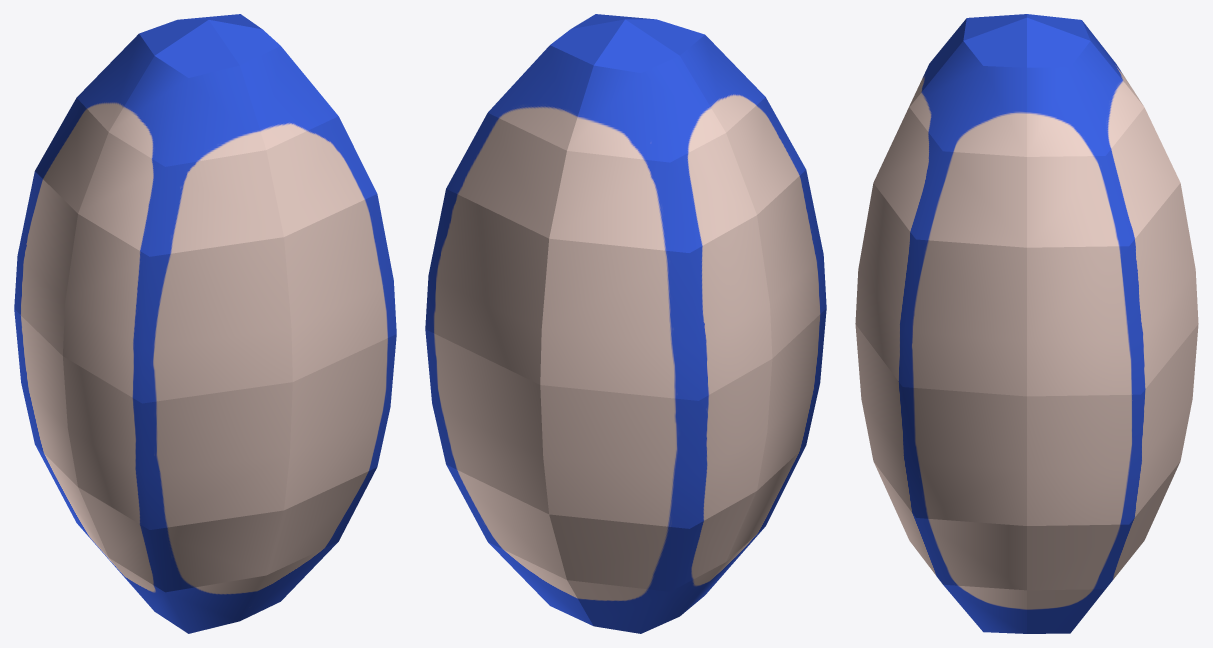
The model's file is RugbyBall.fbx.
3 renders of one model, left to right at view 1: azimuth 30°, elevation 25°; view 2: azimuth 150°, elevation 25°; view 3: azimuth 270°, elevation 25°, orthographic.
Visible parts, largest first — view 1: pSphere1; view 2: pSphere1; view 3: pSphere1.
Part boxes in pixels (left/top/right/bottom): pSphere1: left=14, top=14, right=396, bottom=633; pSphere1: left=425, top=14, right=826, bottom=633; pSphere1: left=855, top=14, right=1198, bottom=633.
Size of the model in its own units: 16.91 by 33.33 by 16.91.
Materials: 1 (1 with a texture image).
